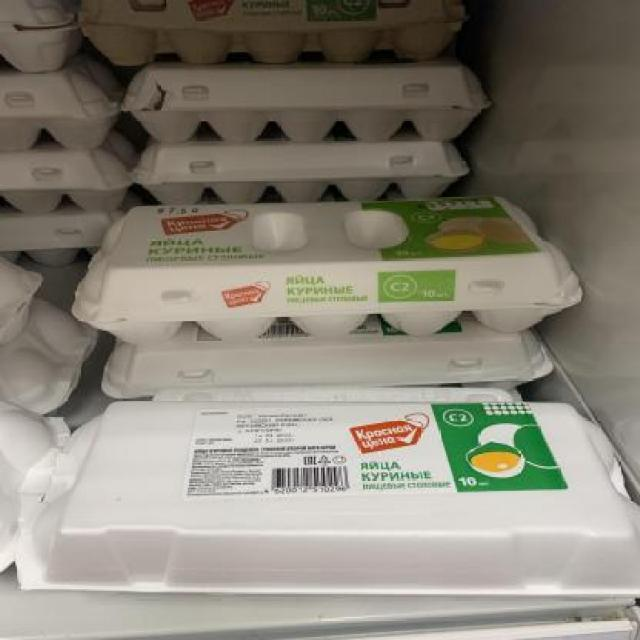egg: (12, 403, 640, 599), (72, 194, 588, 340), (70, 0, 472, 65)
